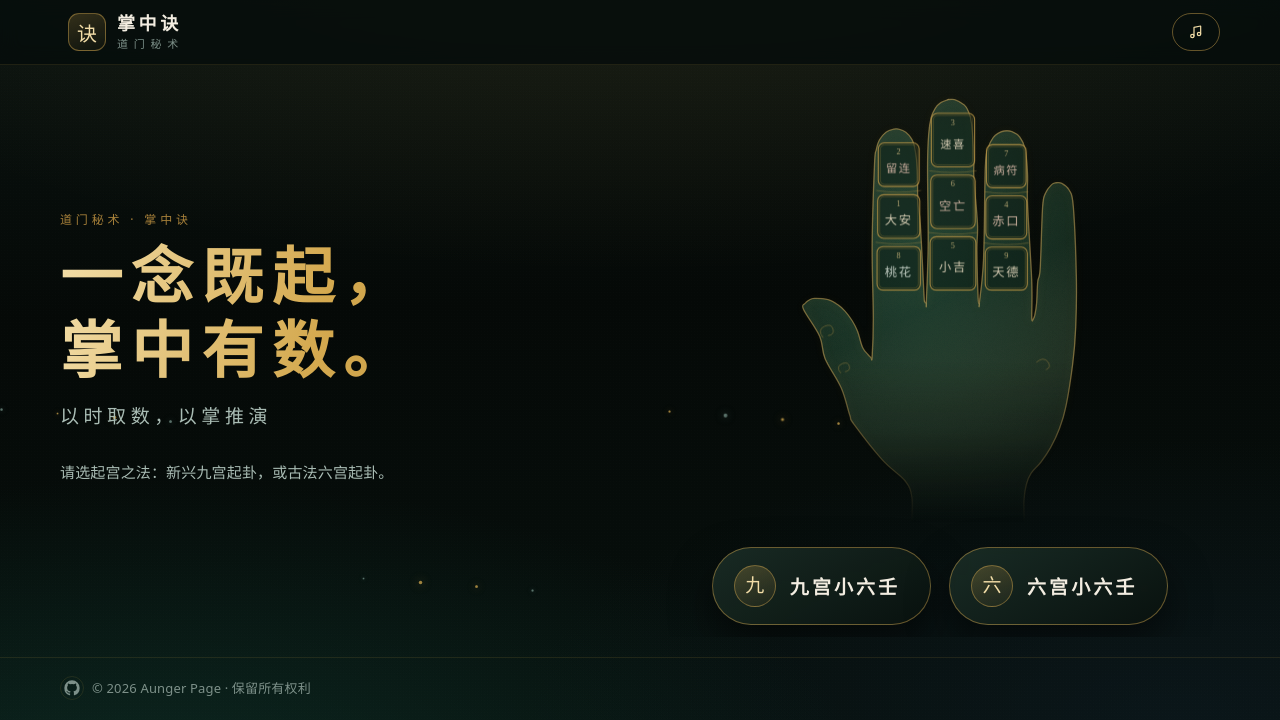
门厅与首页 › 导航品牌副标题：门厅「道门秘术」，入宫制后随线更名，退回门厅不复残留
This screenshot has width=1280, height=720.
Step 1. Click the button with test id "gate-nine" → x=821, y=586, box [712,547,931,625]
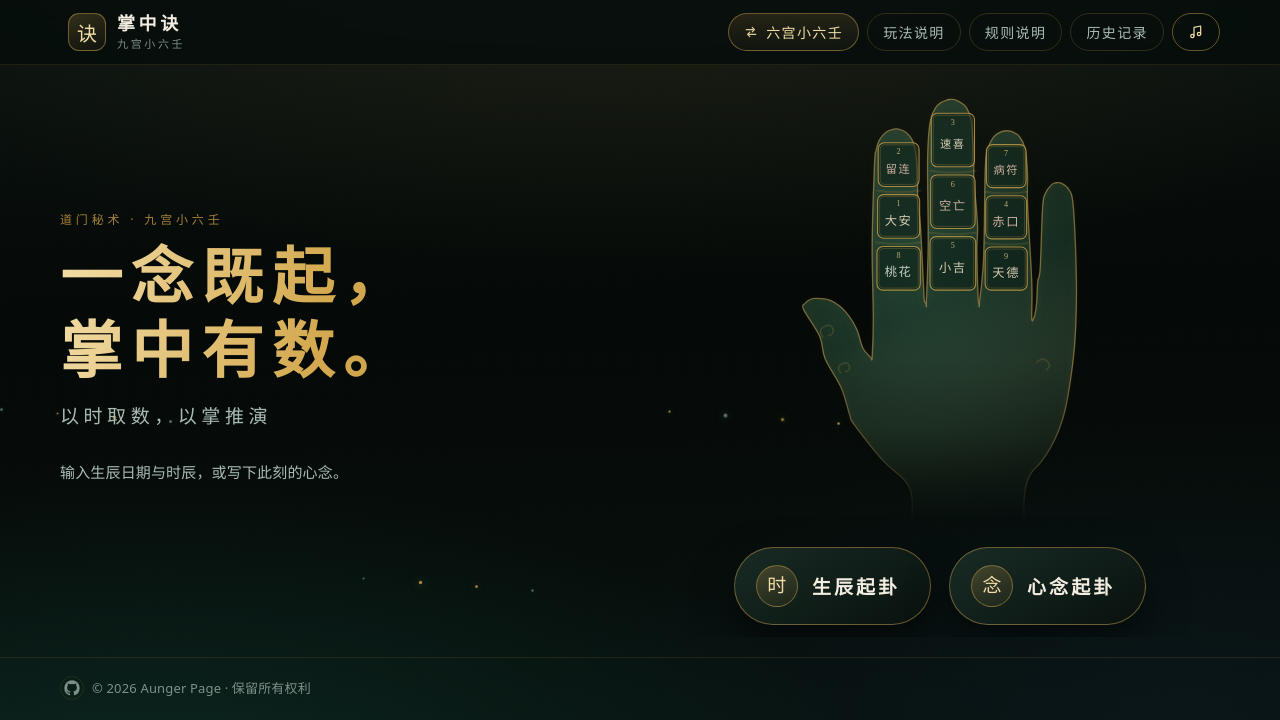
Result: the text "九宫小六壬" is shown at [117,36,185,51]
Step 2. Click the button "诀 掌中诀 九宫小六壬" → x=127, y=32, box [60,7,193,57]
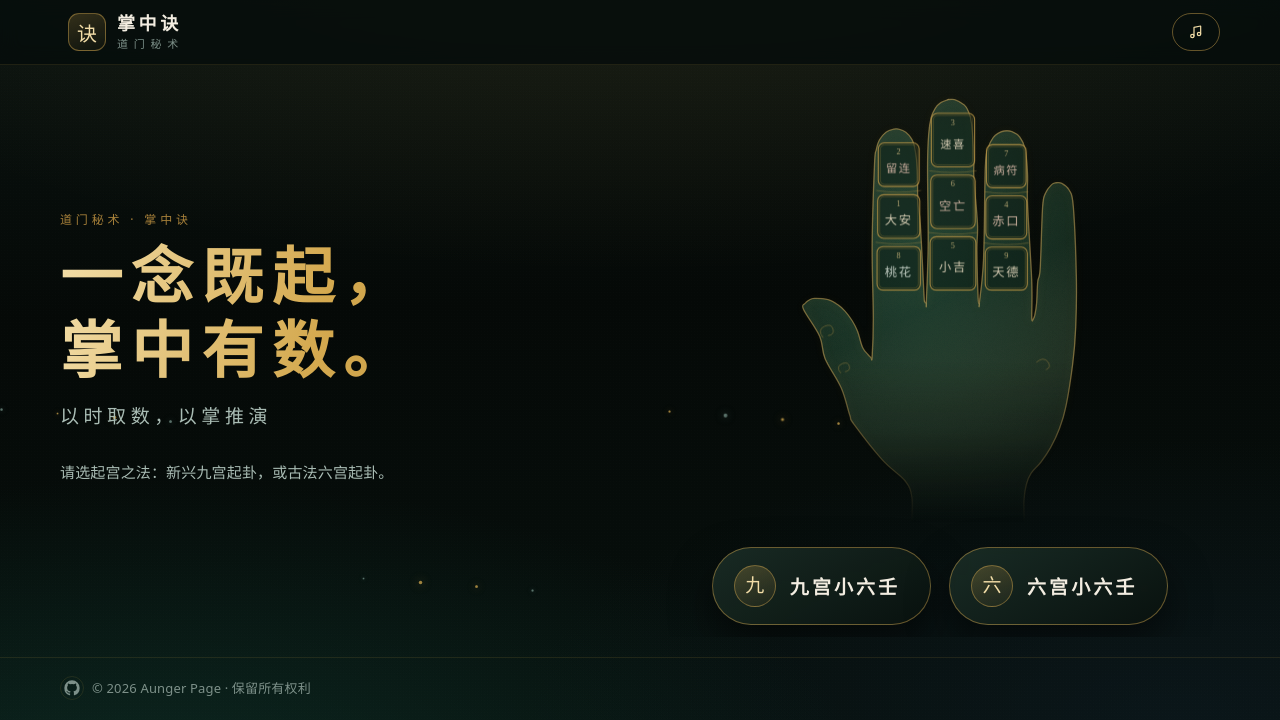
Result: the text "道门秘术" is shown at [117,36,184,51]
Step 3. Click the button with test id "gate-six" → x=1059, y=586, box [949,547,1168,625]
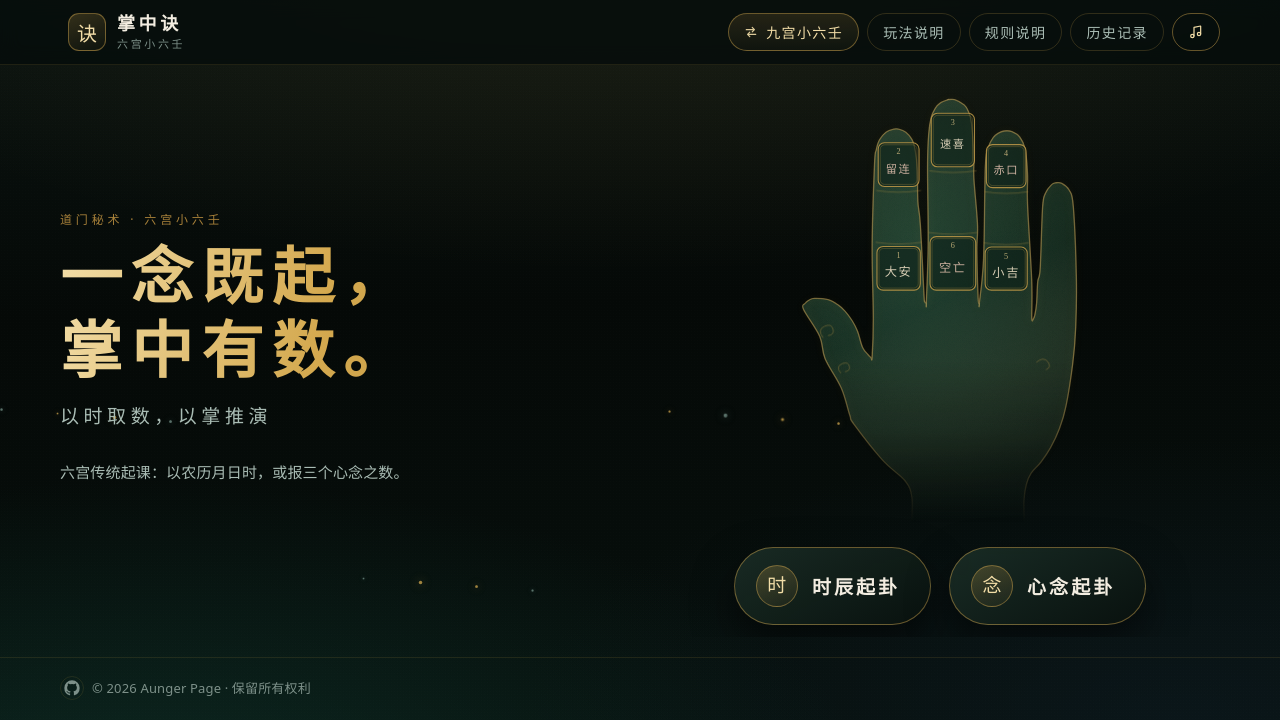
Result: the text "六宫小六壬" is shown at [117,36,185,51]
Step 4. Click the button "诀 掌中诀 六宫小六壬" → x=127, y=32, box [60,7,193,57]
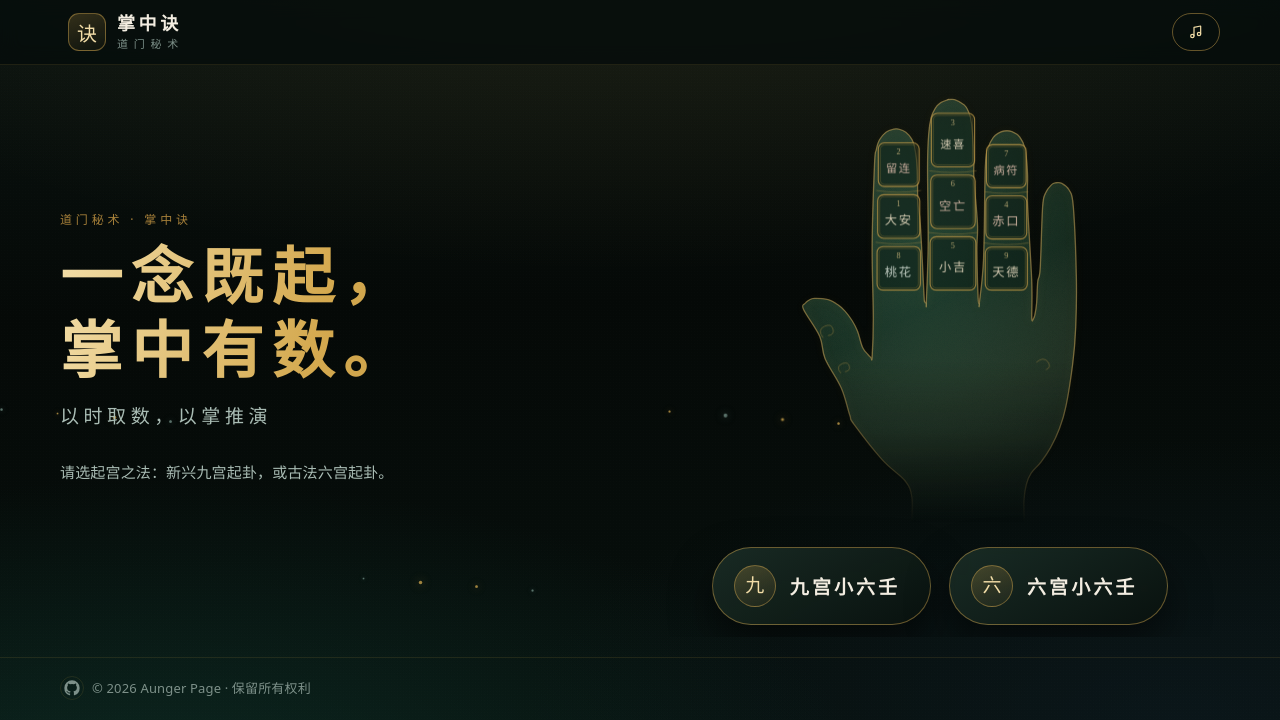
Result: the text "道门秘术" is shown at [117,36,184,51]
